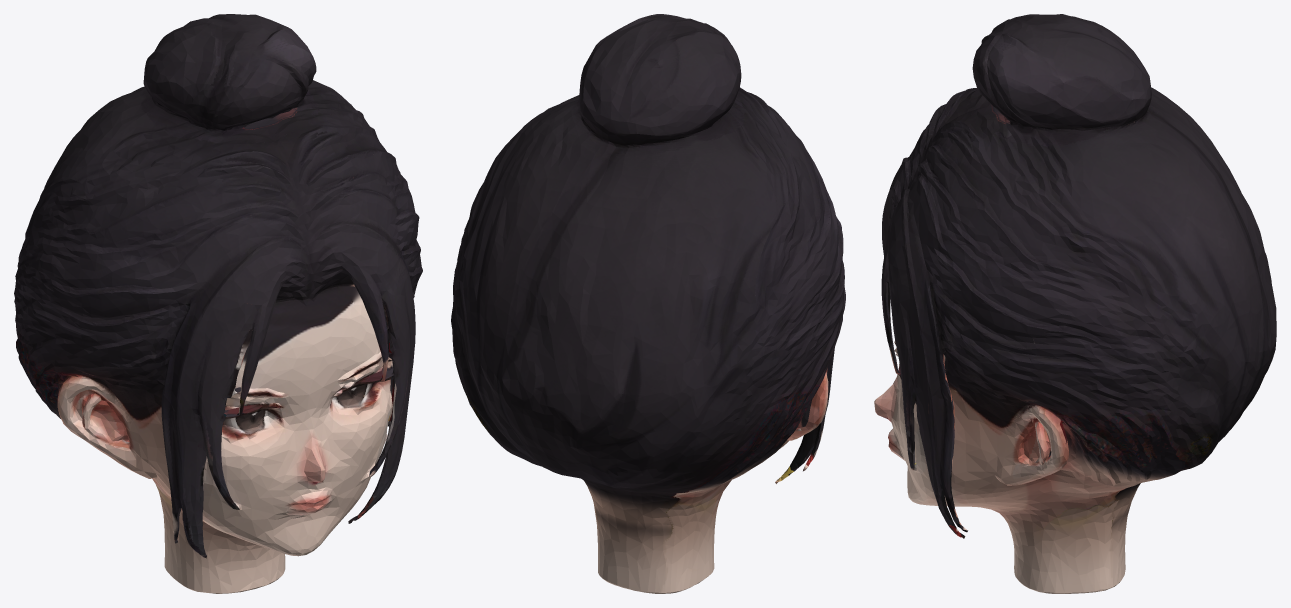
The model's file is side_makeup_repaired_atlas.glb.
3 views of the same model, side by side, from view 1: azimuth 30°, elevation 25°; view 2: azimuth 150°, elevation 25°; view 3: azimuth 270°, elevation 25° (orthographic). The views are drawn at different scales.
Parts seen in each view (by area): view 1: temp_mesh.ply; view 2: temp_mesh.ply; view 3: temp_mesh.ply.
Boxes of the visible parts, x1,y1,x2,y2 form: temp_mesh.ply: (14,14,422,593); temp_mesh.ply: (451,14,845,593); temp_mesh.ply: (874,14,1276,593).
Size of the model in its own units: 1.34 by 1.97 by 1.32.
Materials: 1 (1 with a texture image).
